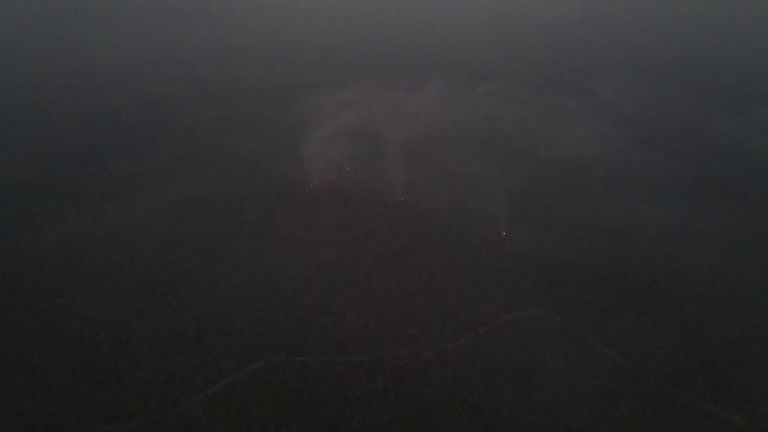fire: (342, 162, 354, 176), (395, 192, 409, 203), (306, 181, 318, 192), (499, 228, 507, 237)
smoke: (298, 84, 481, 190)
